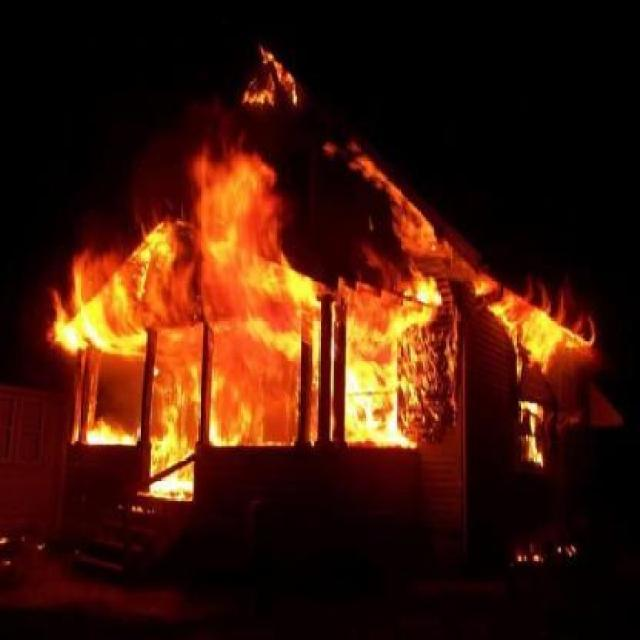Fire: (49, 60, 614, 592)
